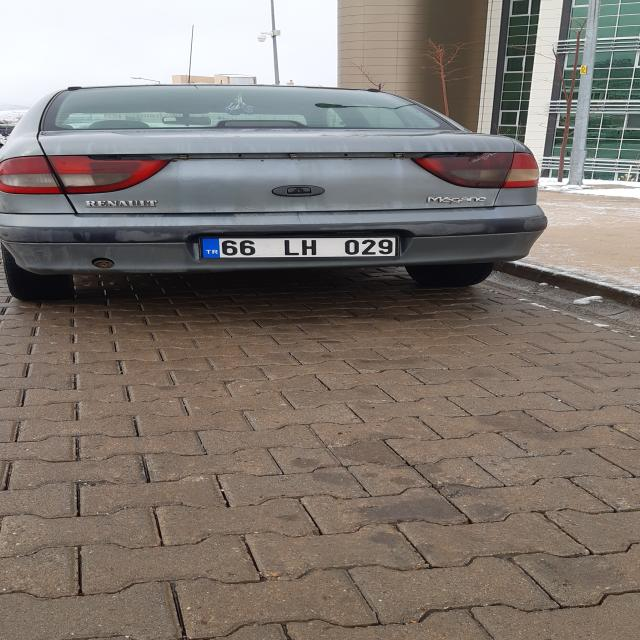plate: (199, 236, 399, 258)
